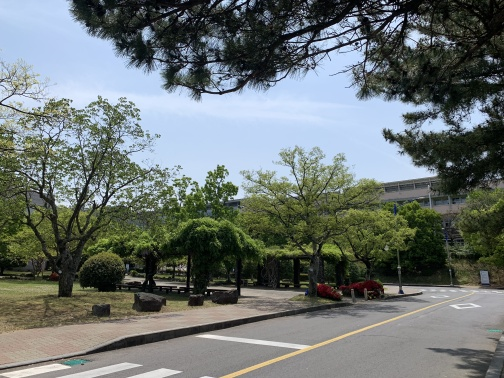College Of Education: (281, 174, 504, 247), (345, 171, 503, 241)
